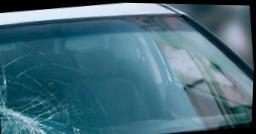Windshield: (0, 19, 133, 134)
